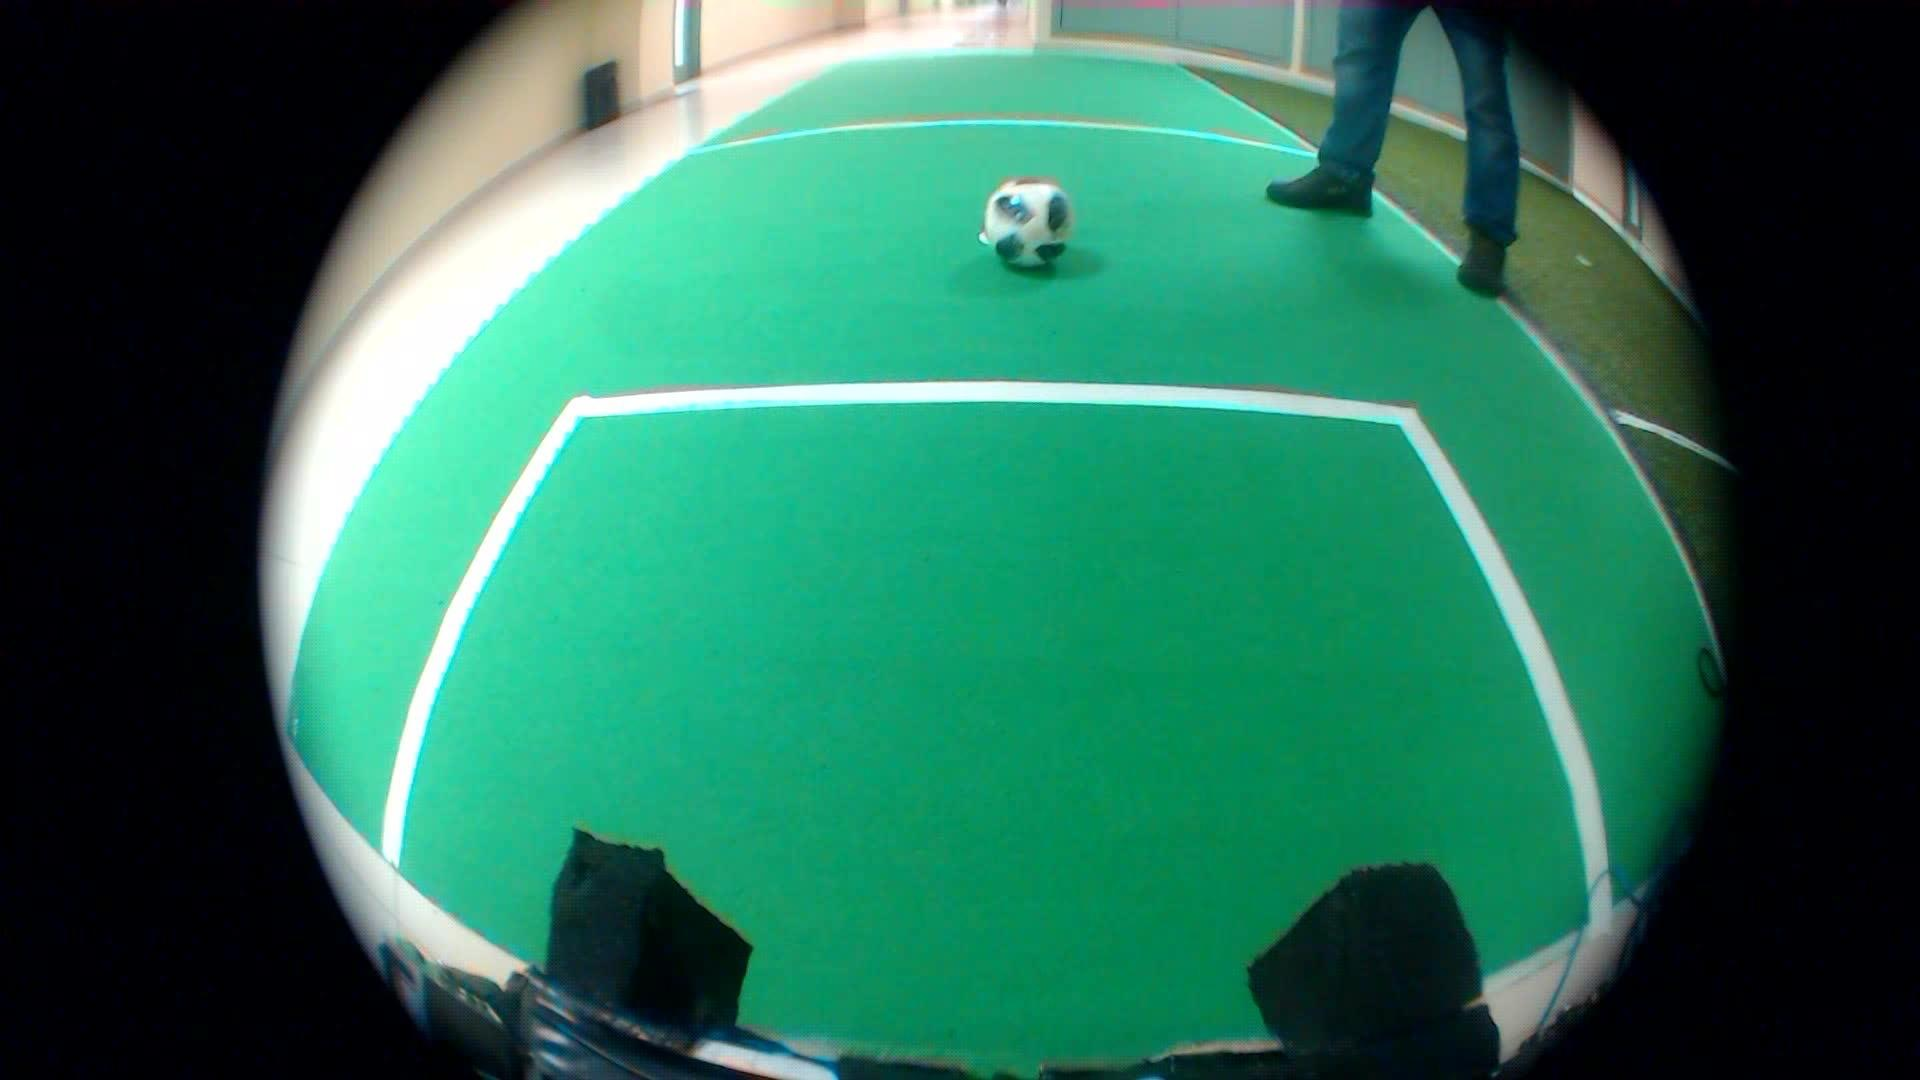ball: (964, 160, 1083, 280)
